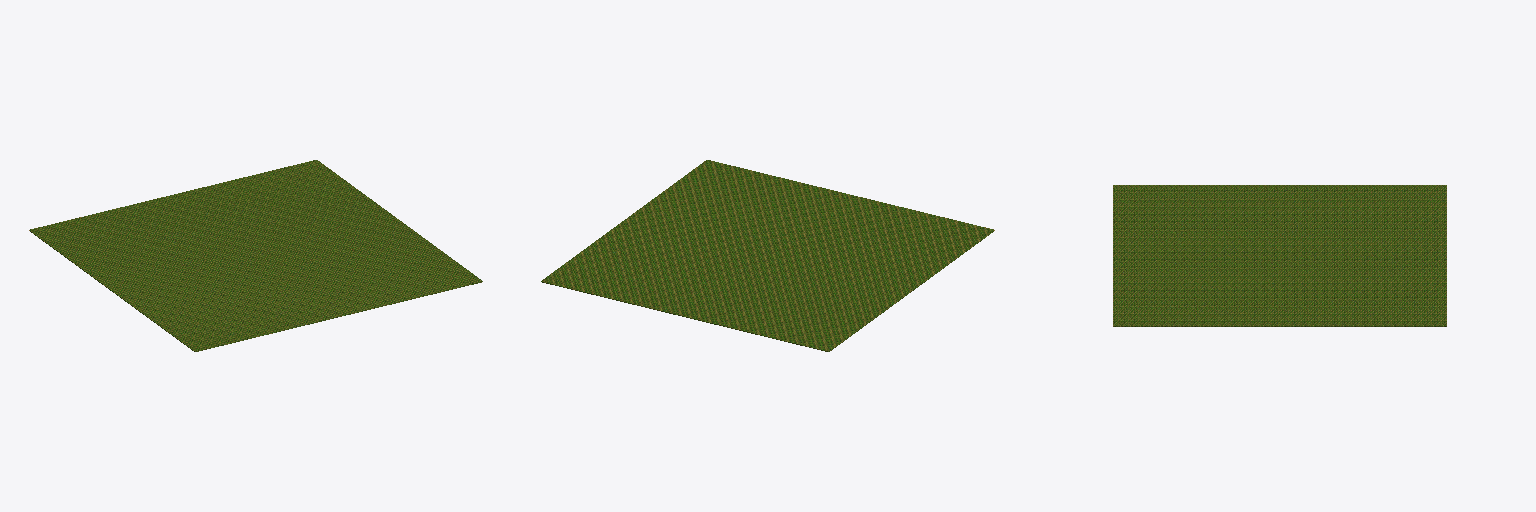
3 renders of one model, left to right at view 1: azimuth 30°, elevation 25°; view 2: azimuth 150°, elevation 25°; view 3: azimuth 270°, elevation 25°, orthographic.
Parts seen in each view (by area): view 1: Cube; view 2: Cube; view 3: Cube.
Boxes of the visible parts, box(x1,y1,x2,y2) form: Cube: box(29, 160, 482, 351); Cube: box(541, 160, 994, 351); Cube: box(1113, 185, 1446, 326).
Size of the model in its own units: 1000 by 2 by 1000.
Materials: 1 (1 with a texture image).